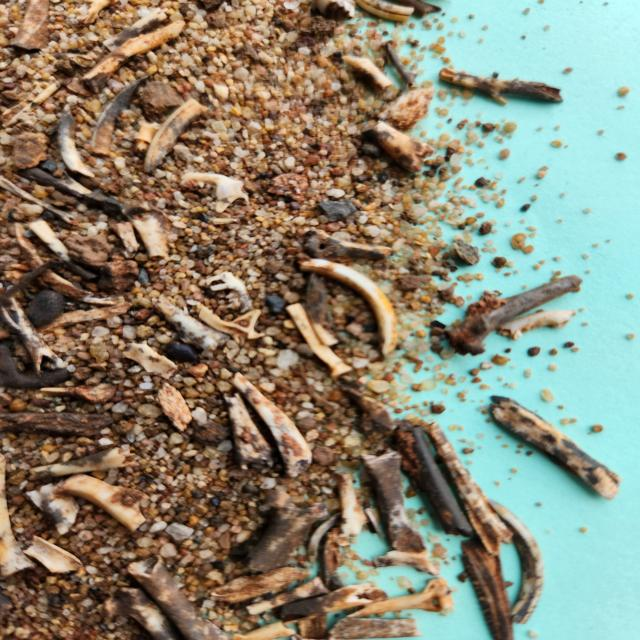fossil: (484, 392, 626, 503), (421, 418, 517, 559), (441, 268, 590, 357), (295, 256, 413, 355), (385, 418, 476, 544), (227, 370, 321, 484), (0, 220, 121, 307), (124, 550, 238, 640), (69, 18, 189, 100), (479, 493, 549, 629), (357, 445, 434, 559), (235, 484, 331, 575), (6, 161, 144, 220), (457, 534, 526, 640), (281, 300, 359, 380), (87, 72, 157, 160), (50, 472, 156, 530), (436, 64, 570, 109), (0, 297, 136, 340), (0, 447, 42, 582), (142, 96, 214, 174), (24, 439, 143, 485), (345, 576, 463, 622), (150, 293, 229, 356), (0, 297, 67, 370), (278, 579, 391, 621), (26, 220, 104, 280), (101, 582, 180, 640), (222, 389, 274, 475), (357, 119, 438, 174), (47, 103, 99, 181), (0, 408, 135, 438), (302, 504, 366, 567), (203, 566, 311, 603), (0, 173, 78, 224), (21, 478, 86, 538), (300, 226, 402, 264), (239, 577, 332, 617), (341, 383, 407, 437), (0, 342, 73, 390), (0, 76, 60, 134), (178, 169, 250, 216), (490, 307, 580, 344), (114, 337, 186, 383), (0, 254, 63, 306), (103, 5, 171, 52), (6, 0, 61, 56), (150, 379, 203, 436), (198, 267, 259, 316), (328, 468, 370, 539), (18, 535, 90, 574), (194, 306, 269, 343), (284, 12, 344, 58), (377, 87, 441, 129), (60, 224, 117, 269), (129, 211, 178, 262), (328, 615, 427, 640), (382, 41, 426, 97), (340, 52, 391, 96), (98, 254, 146, 299), (32, 381, 122, 404), (108, 222, 148, 258), (354, 0, 414, 24), (71, 0, 121, 28), (237, 618, 298, 640), (293, 612, 335, 640), (231, 37, 266, 67), (362, 504, 386, 542), (200, 8, 233, 29)
